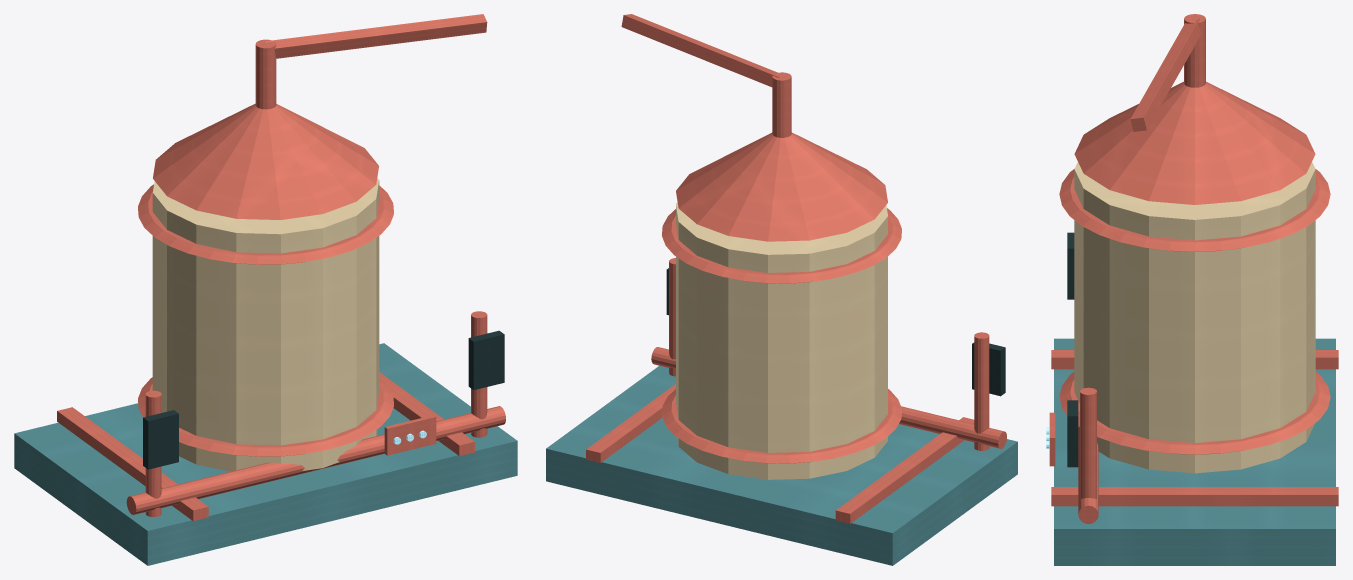
File: atlas100-s076-a02.glb
The picture shows the model from 3 angles, left to right: view 1: azimuth 30°, elevation 25°; view 2: azimuth 150°, elevation 25°; view 3: azimuth 270°, elevation 25°; orthographic projection. The views are drawn at different scales.
Visible parts, largest first — view 1: atlas100-s076-a02:part-003, atlas100-s076-a02:part-000, atlas100-s076-a02:part-007, atlas100-s076-a02:part-014, atlas100-s076-a02:part-005, atlas100-s076-a02:part-009, atlas100-s076-a02:part-004, atlas100-s076-a02:part-001, atlas100-s076-a02:part-013, atlas100-s076-a02:part-011, atlas100-s076-a02:part-002, atlas100-s076-a02:part-008 (+3 smaller); view 2: atlas100-s076-a02:part-003, atlas100-s076-a02:part-000, atlas100-s076-a02:part-007, atlas100-s076-a02:part-005, atlas100-s076-a02:part-004, atlas100-s076-a02:part-001, atlas100-s076-a02:part-009, atlas100-s076-a02:part-014, atlas100-s076-a02:part-002, atlas100-s076-a02:part-010, atlas100-s076-a02:part-008, atlas100-s076-a02:part-011 (+1 smaller); view 3: atlas100-s076-a02:part-003, atlas100-s076-a02:part-000, atlas100-s076-a02:part-007, atlas100-s076-a02:part-002, atlas100-s076-a02:part-005, atlas100-s076-a02:part-004, atlas100-s076-a02:part-009, atlas100-s076-a02:part-012, atlas100-s076-a02:part-008, atlas100-s076-a02:part-001, atlas100-s076-a02:part-013, atlas100-s076-a02:part-014 (+2 smaller).
Part boxes in pixels (bbox=[...]): atlas100-s076-a02:part-003: bbox=[152, 178, 379, 471]; atlas100-s076-a02:part-000: bbox=[14, 343, 517, 565]; atlas100-s076-a02:part-007: bbox=[153, 103, 378, 219]; atlas100-s076-a02:part-014: bbox=[126, 406, 505, 514]; atlas100-s076-a02:part-005: bbox=[138, 184, 393, 264]; atlas100-s076-a02:part-009: bbox=[264, 14, 487, 58]; atlas100-s076-a02:part-004: bbox=[138, 377, 393, 456]; atlas100-s076-a02:part-001: bbox=[57, 407, 208, 521]; atlas100-s076-a02:part-013: bbox=[468, 330, 504, 389]; atlas100-s076-a02:part-011: bbox=[143, 410, 178, 469]; atlas100-s076-a02:part-002: bbox=[379, 372, 474, 456]; atlas100-s076-a02:part-008: bbox=[255, 39, 276, 109]; atlas100-s076-a02:part-003: bbox=[676, 202, 887, 479]; atlas100-s076-a02:part-000: bbox=[546, 366, 1017, 565]; atlas100-s076-a02:part-007: bbox=[676, 132, 887, 241]; atlas100-s076-a02:part-005: bbox=[662, 208, 901, 283]; atlas100-s076-a02:part-004: bbox=[662, 389, 901, 463]; atlas100-s076-a02:part-001: bbox=[835, 417, 974, 523]; atlas100-s076-a02:part-009: bbox=[621, 14, 780, 87]; atlas100-s076-a02:part-014: bbox=[651, 347, 1006, 448]; atlas100-s076-a02:part-002: bbox=[586, 384, 675, 462]; atlas100-s076-a02:part-010: bbox=[974, 332, 989, 450]; atlas100-s076-a02:part-008: bbox=[772, 72, 791, 137]; atlas100-s076-a02:part-011: bbox=[972, 342, 1005, 396]; atlas100-s076-a02:part-003: bbox=[1074, 162, 1315, 473]; atlas100-s076-a02:part-000: bbox=[1054, 338, 1335, 565]; atlas100-s076-a02:part-007: bbox=[1074, 81, 1315, 204]; atlas100-s076-a02:part-002: bbox=[1051, 487, 1338, 506]; atlas100-s076-a02:part-005: bbox=[1059, 169, 1330, 251]; atlas100-s076-a02:part-004: bbox=[1059, 372, 1330, 454]; atlas100-s076-a02:part-009: bbox=[1130, 18, 1201, 131]; atlas100-s076-a02:part-012: bbox=[1080, 387, 1096, 499]; atlas100-s076-a02:part-008: bbox=[1184, 14, 1205, 87]; atlas100-s076-a02:part-001: bbox=[1051, 350, 1338, 369]; atlas100-s076-a02:part-013: bbox=[1067, 400, 1078, 467]; atlas100-s076-a02:part-014: bbox=[1078, 426, 1098, 523].
Bounding box in the file's own units: 2.95 × 3.19 × 1.87.
Materials: 5 (5 with a texture image).
